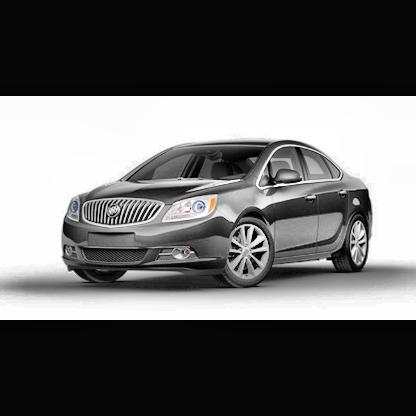Buick Verano Sedan 2012: (62, 142, 374, 291)
